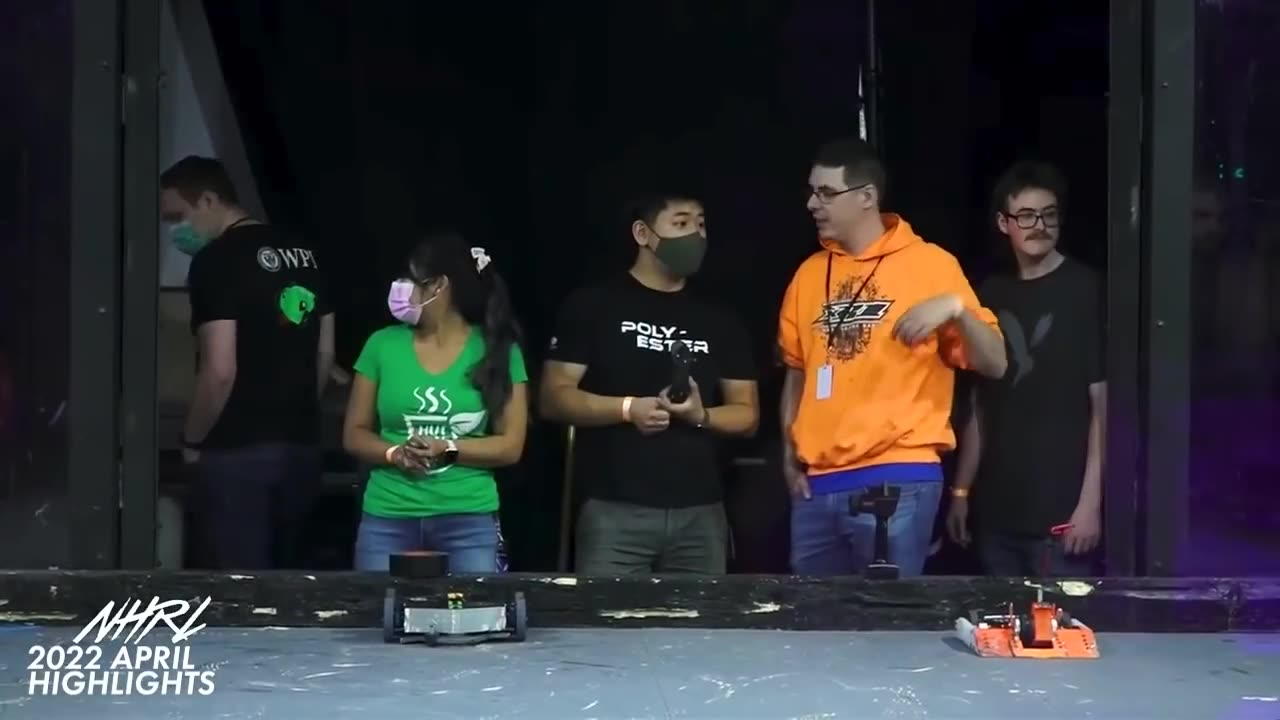combatbot: (383, 584, 526, 646), (956, 604, 1098, 663)
